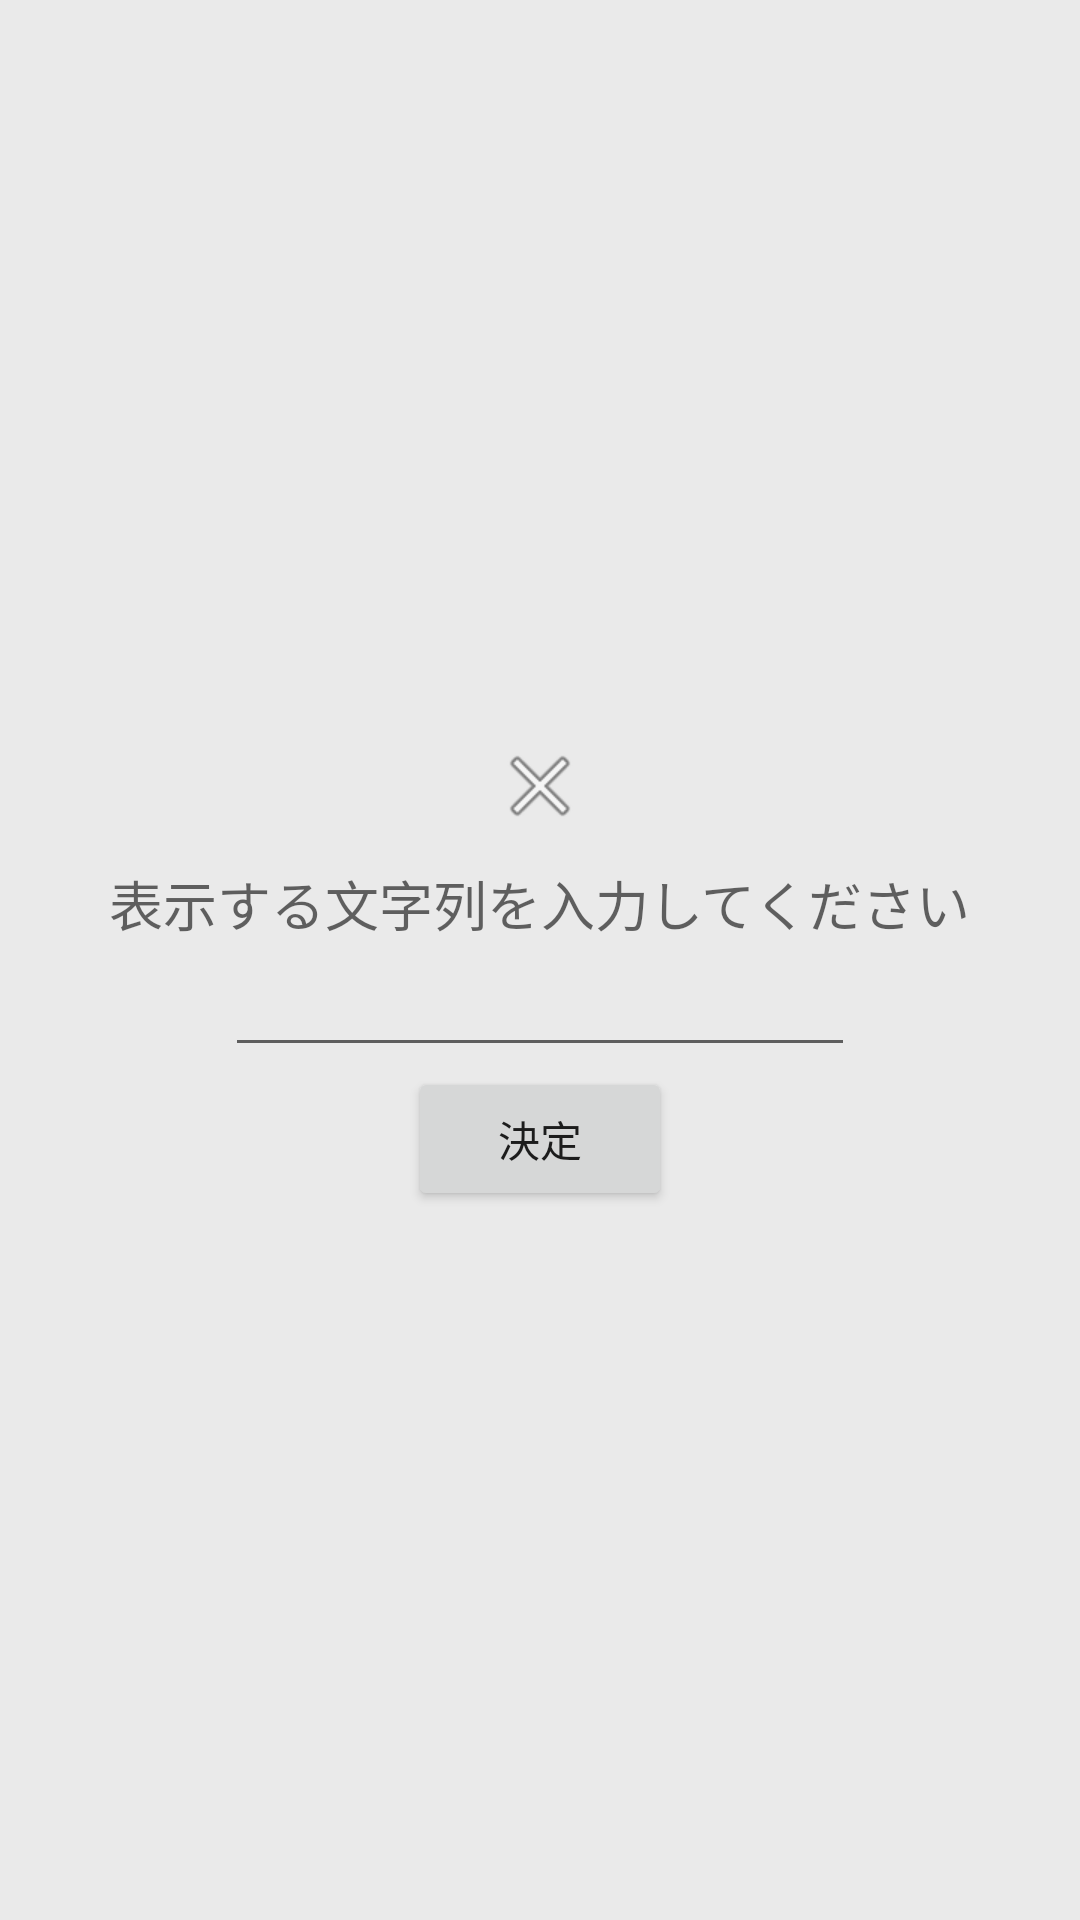

Screen size 1080 x 1920. Icon name, then its box in pixels as (x1, y1, x2, y2):
close clear cancel: (510, 756, 570, 816)
